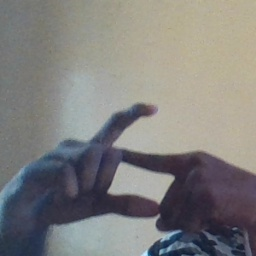E: (73, 98, 198, 225)
